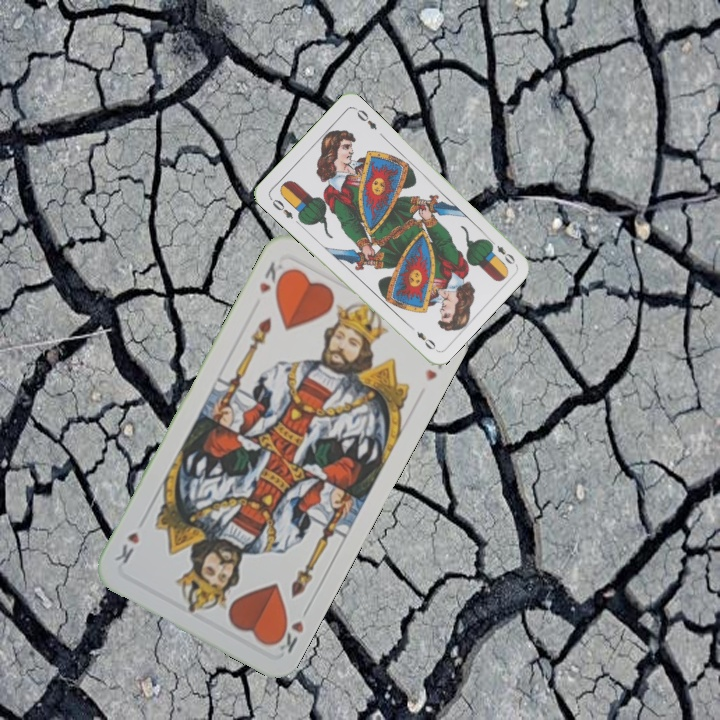EO: (485, 235, 518, 267), (266, 194, 296, 221)
HK: (269, 602, 313, 656), (255, 257, 291, 298)
